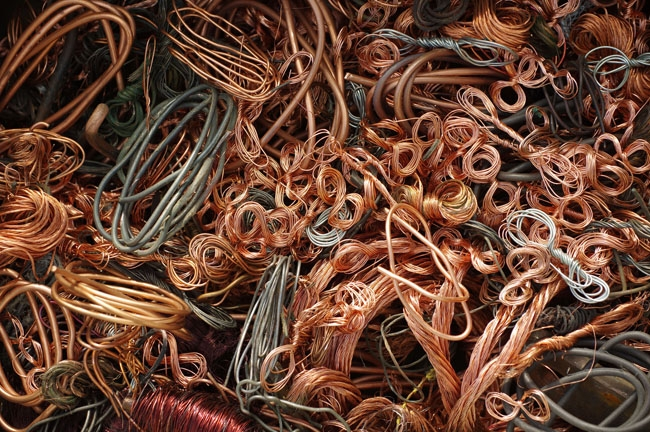metal: (80, 74, 256, 261), (214, 245, 314, 409), (148, 1, 298, 110), (87, 22, 216, 143), (38, 253, 205, 346), (1, 116, 92, 260), (1, 261, 91, 406), (377, 17, 529, 78), (114, 371, 265, 432), (557, 123, 650, 210), (475, 49, 586, 111), (158, 230, 250, 292), (322, 229, 434, 277), (353, 118, 437, 182), (488, 235, 555, 314), (473, 375, 563, 432), (579, 34, 650, 100), (226, 197, 311, 252), (404, 96, 484, 151), (420, 173, 480, 227), (451, 136, 509, 180)
